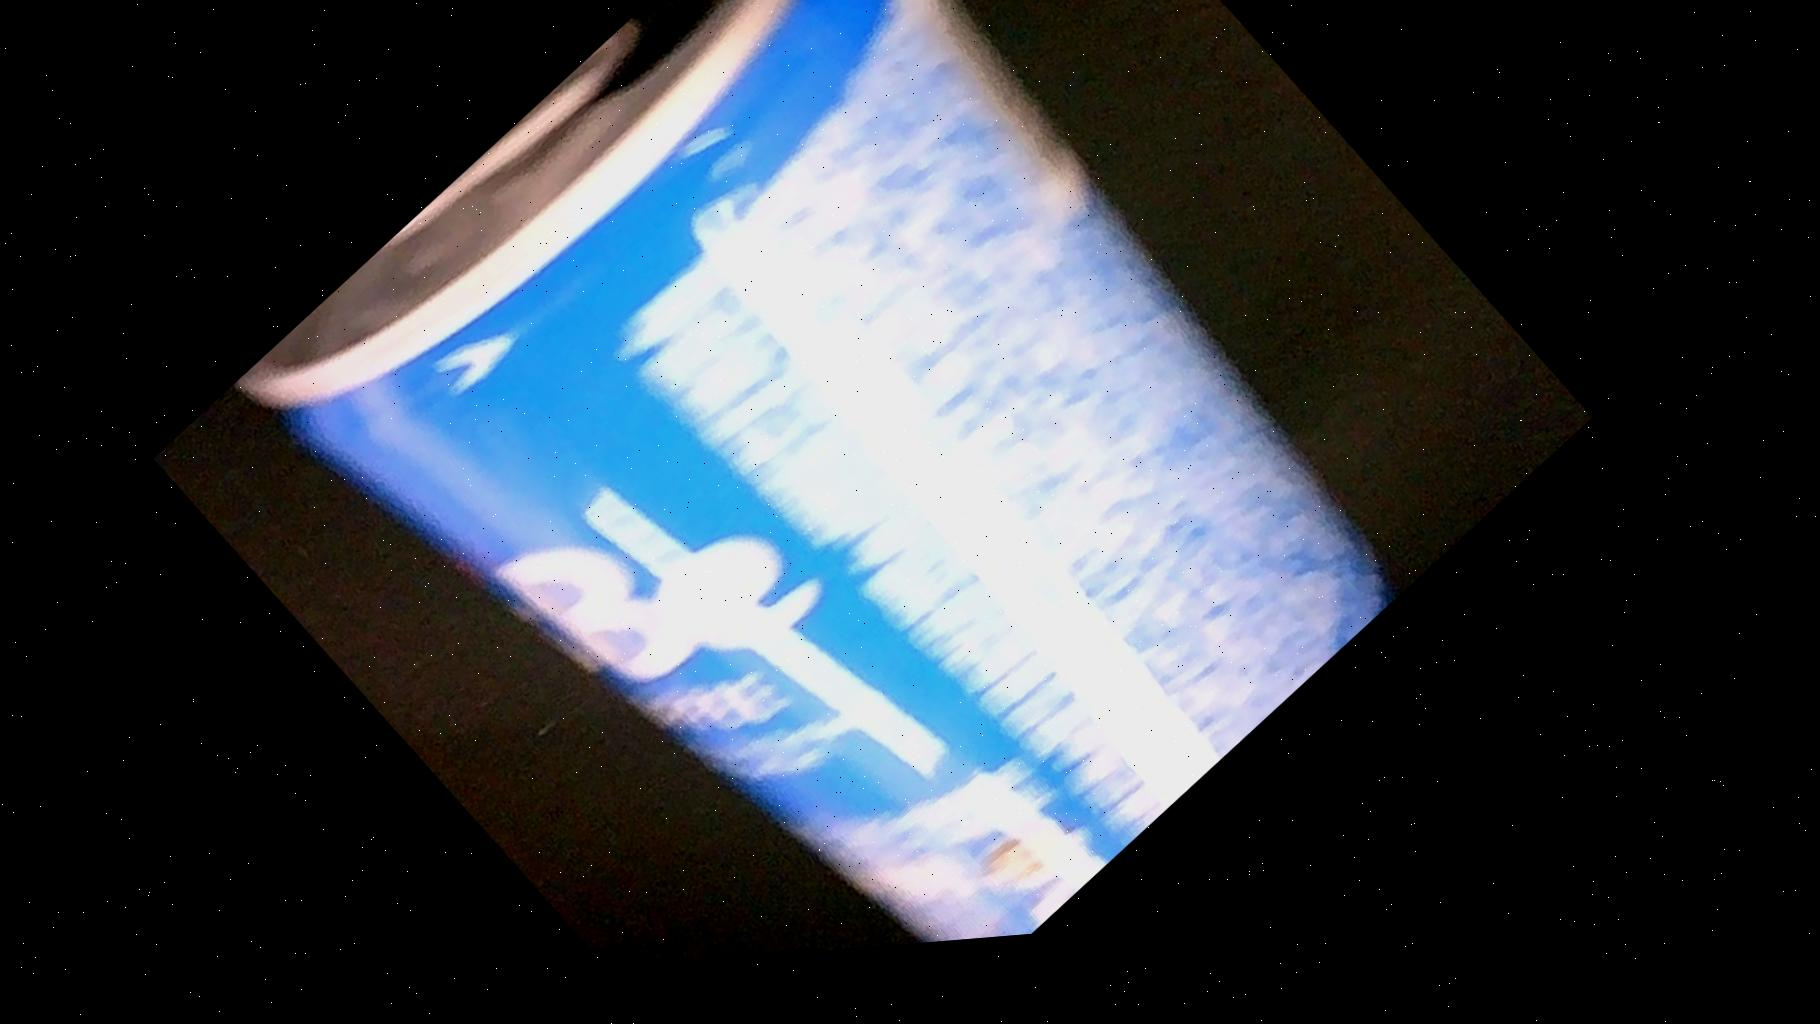letsbe: (201, 0, 1504, 1007)
